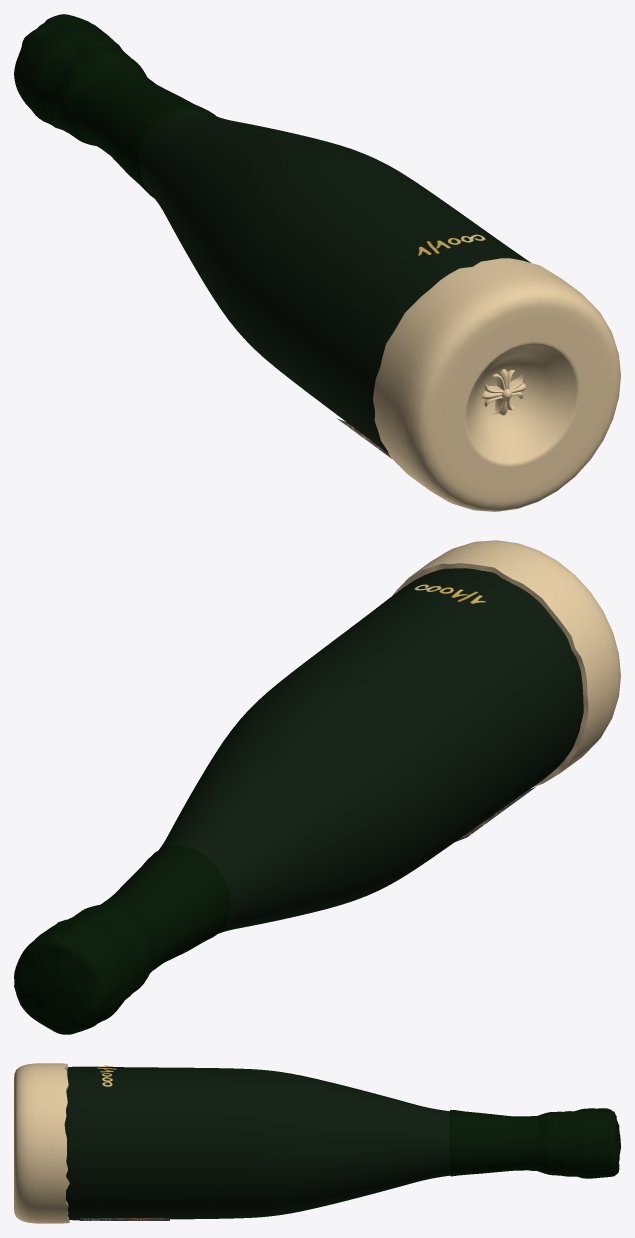
The model's file is KxCHBottle14.glb.
3 views of the same model, one above another, from view 1: azimuth 30°, elevation 25°; view 2: azimuth 150°, elevation 25°; view 3: azimuth 270°, elevation 25° (orthographic). The views are drawn at different scales.
Visible parts, largest first — view 1: OG, Base without top.002, Cylinder.007, object_3; view 2: OG, Cylinder.007, Base without top.002; view 3: OG, Cylinder.007, Base without top.002, Plane.001.
Boxes of the visible parts, x1,y1,x2,y2 form: OG: (140,109,530,453); Base without top.002: (373,258,620,511); Cylinder.007: (14,14,215,197); object_3: (482,369,526,415); OG: (159,568,583,933); Cylinder.007: (14,845,230,1034); Base without top.002: (392,540,620,786); OG: (64,1066,450,1220); Cylinder.007: (449,1108,620,1178); Base without top.002: (14,1063,69,1223); Plane.001: (79,1218,169,1220).
Bounding box in the file's own units: 0.6608 × 0.6608 × 2.5.
Materials: 7 (2 with a texture image).
